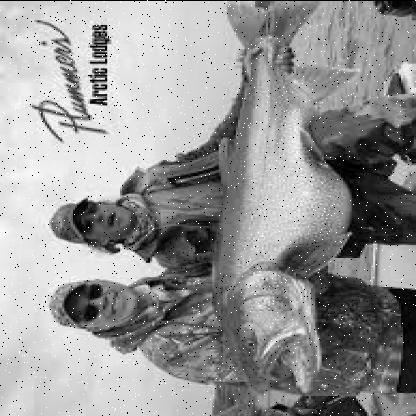fish: (212, 1, 356, 393)
